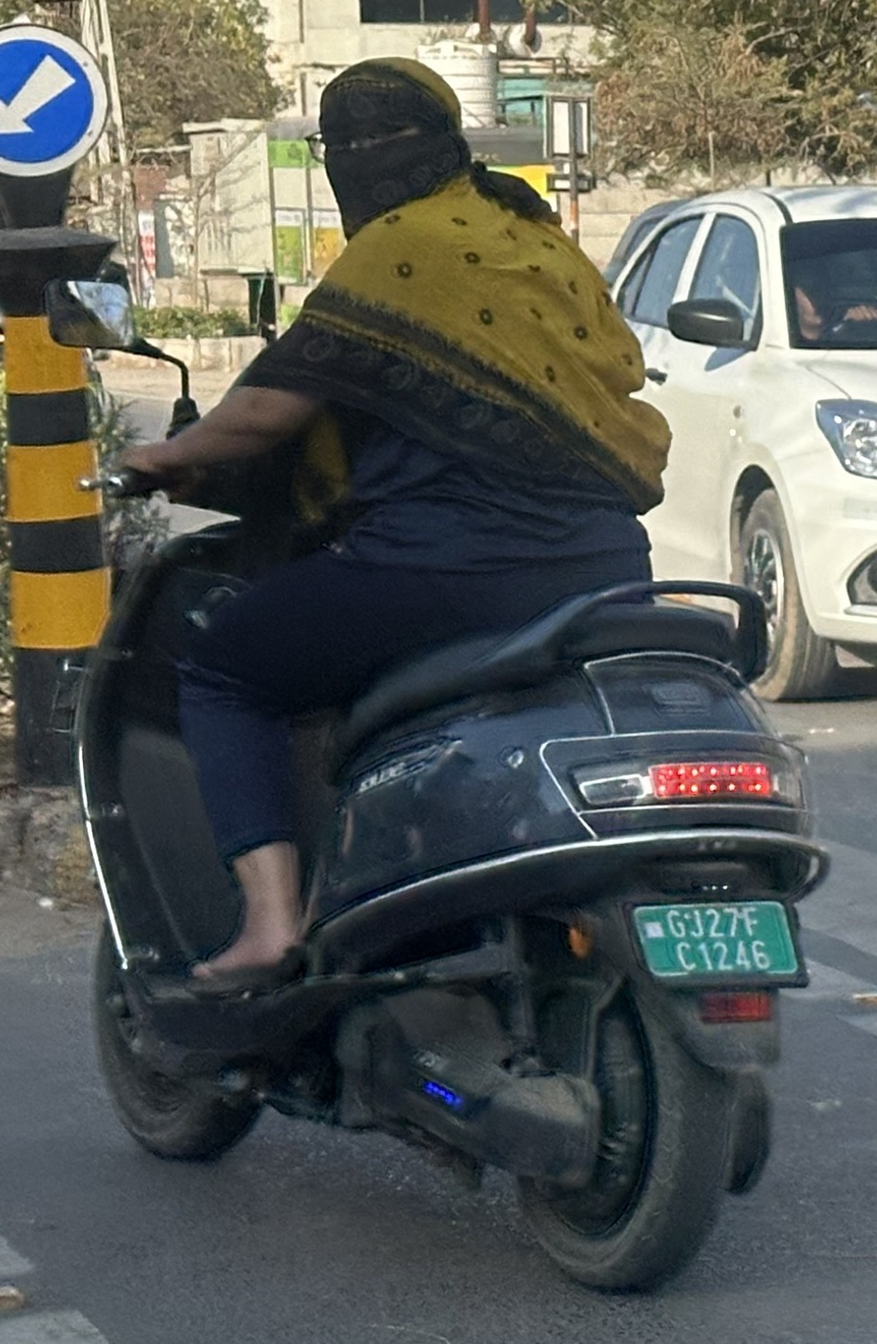BikeWithRider: (50, 40, 847, 1306)
NoHelmet: (297, 46, 491, 251)
